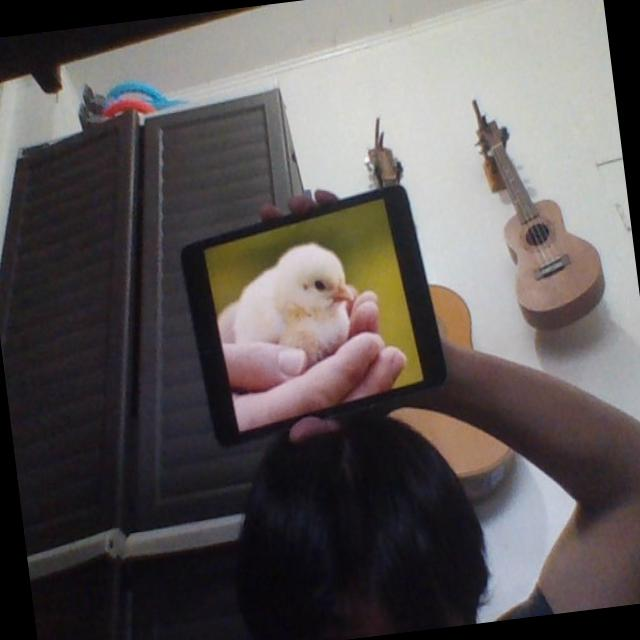Healthy: (228, 236, 360, 372)
